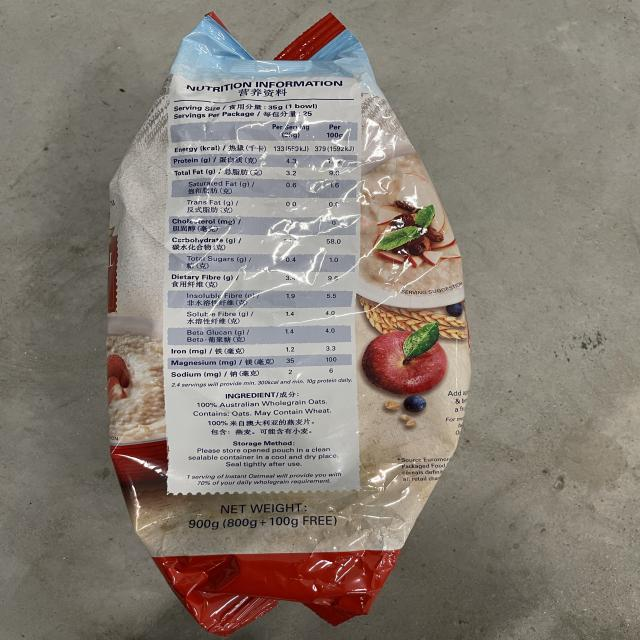object_name: (133, 57, 417, 616)
